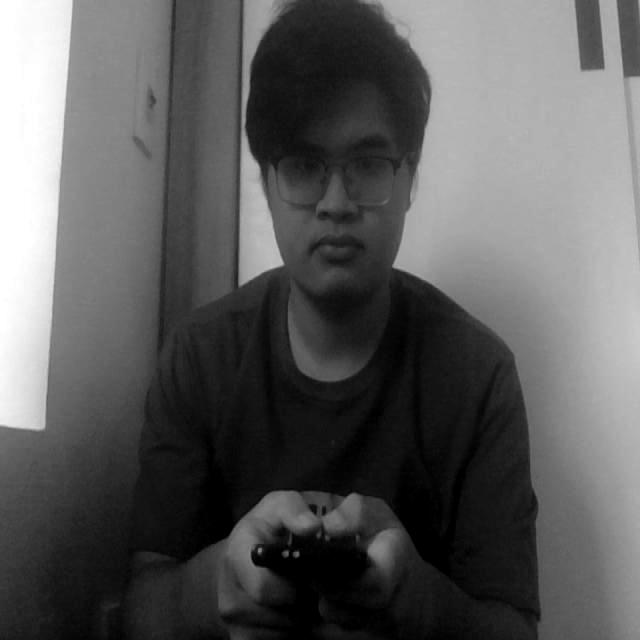phone: (245, 507, 384, 604)
